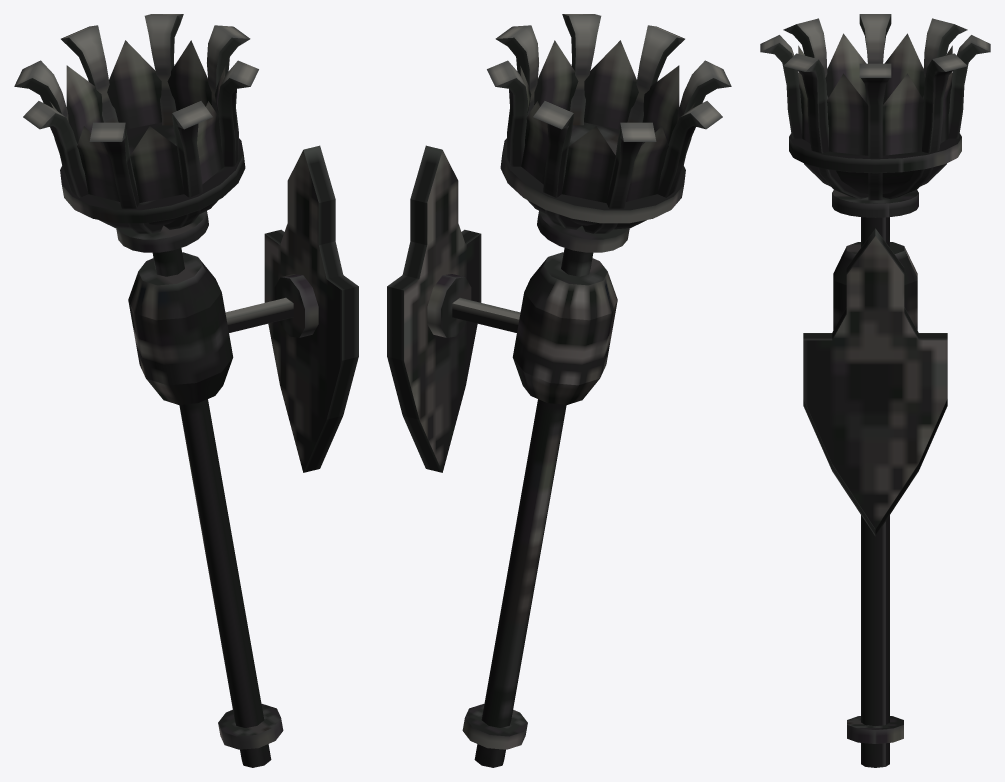
Rendered from EnvObjMD_Torch_Wall_C.FBX.
The picture shows the model from 3 angles, left to right: view 1: azimuth 30°, elevation 25°; view 2: azimuth 150°, elevation 25°; view 3: azimuth 270°, elevation 25°; orthographic projection. The views are drawn at different scales.
Parts seen in each view (by area): view 1: EnvObjMD_Torch_Wall_C; view 2: EnvObjMD_Torch_Wall_C; view 3: EnvObjMD_Torch_Wall_C.
Boxes of the visible parts, <box> form: EnvObjMD_Torch_Wall_C: <box>14,14,358,767</box>; EnvObjMD_Torch_Wall_C: <box>387,14,731,767</box>; EnvObjMD_Torch_Wall_C: <box>760,14,990,767</box>.
Size of the model in its own units: 108 by 263 by 79.77.
